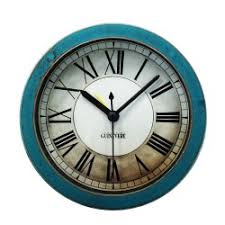alarm_clock: (21, 24, 211, 210)
